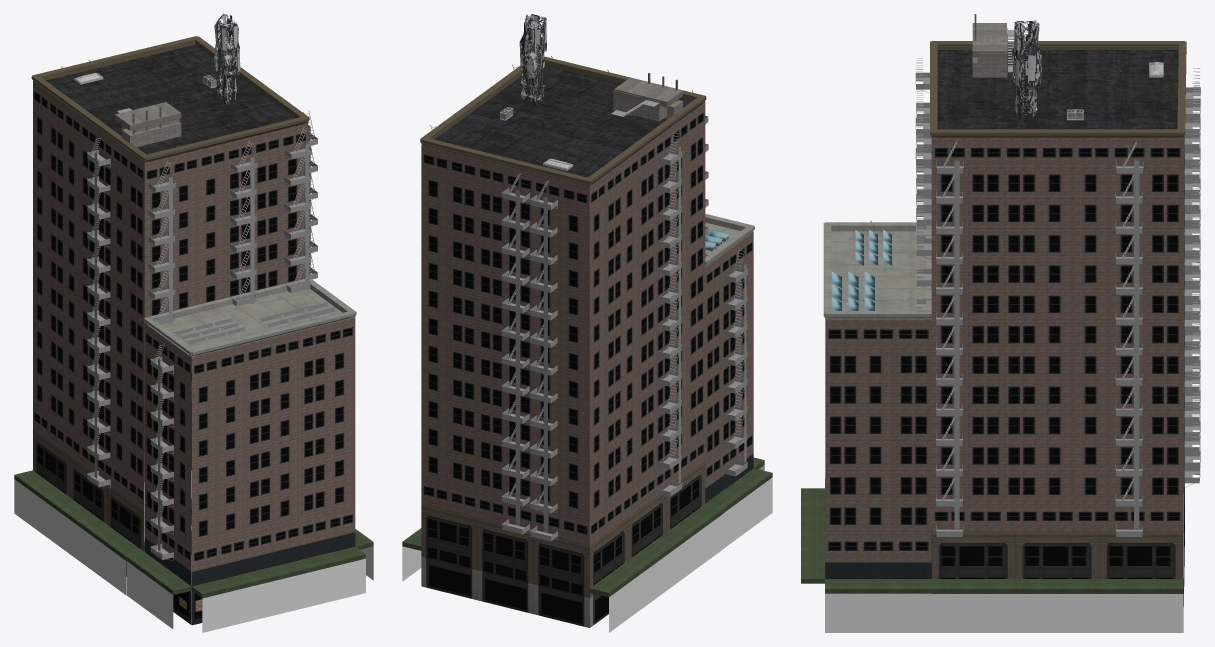
Rendered from building6.gltf.
The picture shows the model from 3 angles, left to right: view 1: azimuth 30°, elevation 25°; view 2: azimuth 150°, elevation 25°; view 3: azimuth 270°, elevation 25°; orthographic projection. The views are drawn at different scales.
Parts seen in each view (by area): view 1: Object_67.004, Object_97.001, Object_95.001, Object_65.004, Object_65.001; view 2: Object_67.004, Object_97.001, Object_95.001; view 3: Object_67.004, Object_95.001, Object_97.001, Object_65.001, Object_65.004.
Boxes of the visible parts, x1,y1,x2,y2 form: Object_67.004: [14, 36, 373, 632]; Object_97.001: [115, 102, 181, 146]; Object_95.001: [213, 14, 240, 105]; Object_65.004: [174, 318, 244, 344]; Object_65.001: [258, 302, 341, 328]; Object_67.004: [402, 56, 772, 632]; Object_97.001: [611, 73, 682, 121]; Object_95.001: [519, 14, 546, 105]; Object_67.004: [801, 41, 1200, 632]; Object_95.001: [1011, 19, 1041, 119]; Object_97.001: [972, 14, 1019, 77]; Object_65.001: [831, 271, 874, 310]; Object_65.004: [855, 230, 891, 265].
Size of the model in its own units: 23.58 by 57.58 by 35.88.
16 materials, 10 textured.
